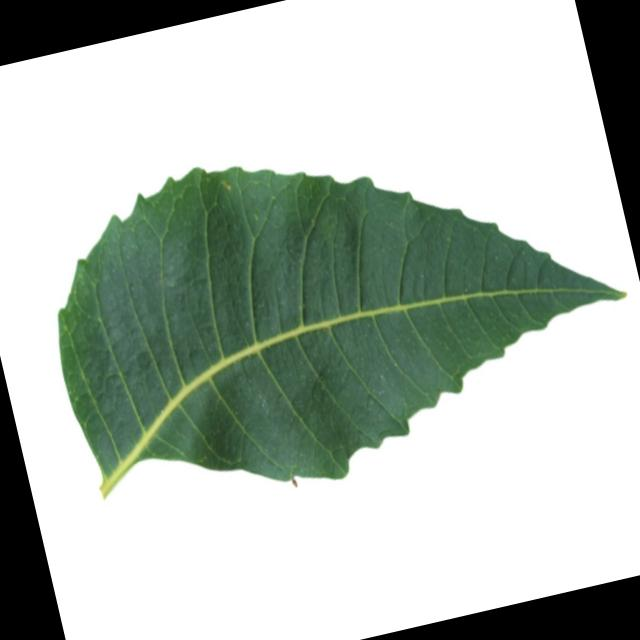Medicinal-Neem: (19, 78, 640, 537)
